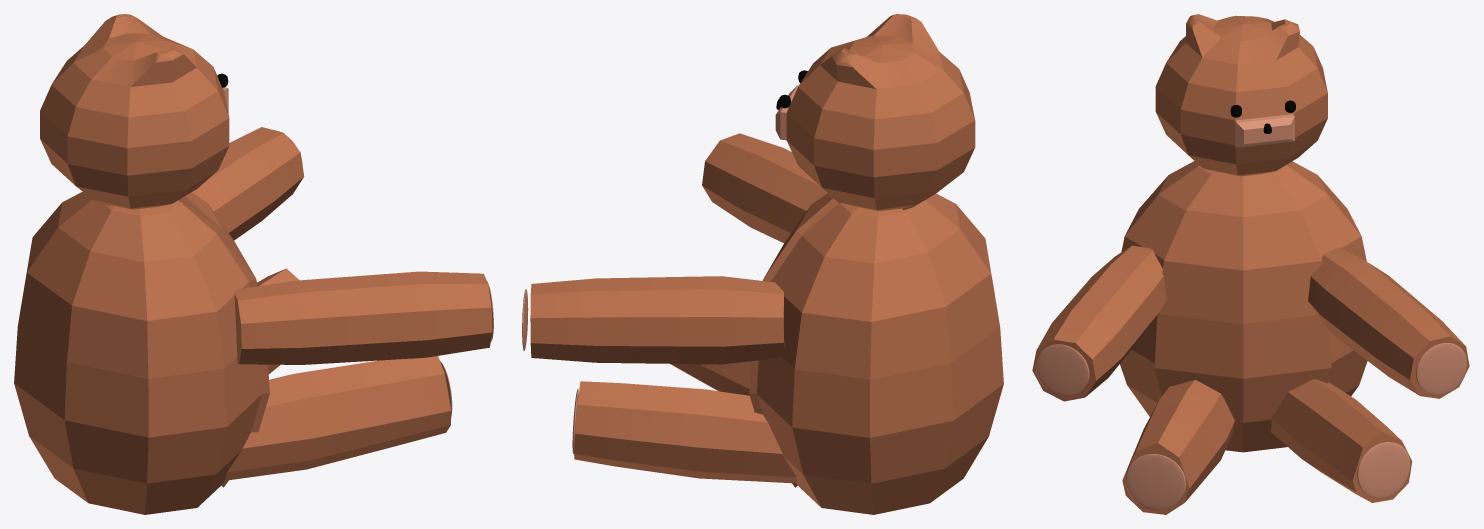
The model's file is Bear 2.fbx.
3 renders of one model, left to right at view 1: azimuth 30°, elevation 25°; view 2: azimuth 150°, elevation 25°; view 3: azimuth 270°, elevation 25°, orthographic. The views are drawn at different scales.
Visible parts, largest first — view 1: pSphere1, pSphere2, pCylinder2, pasted__pCylinder1, pasted__pCylinder2; view 2: pSphere1, pSphere2, pasted__pCylinder2, pCylinder1, pCylinder2, pasted__pCylinder1; view 3: pSphere1, pSphere2, pasted__pCylinder2, pCylinder2, pCylinder1, pasted__pCylinder1, pasted__pSphere3 (×2), pSphere3, pasted__pasted__pSphere3.
Boxes of the visible parts, bbox=[...] form: pSphere1: bbox=[14, 191, 269, 514]; pSphere2: bbox=[40, 14, 229, 209]; pCylinder2: bbox=[234, 271, 492, 364]; pasted__pCylinder1: bbox=[226, 356, 451, 479]; pasted__pCylinder2: bbox=[192, 127, 304, 240]; pSphere1: bbox=[749, 193, 1003, 514]; pSphere2: bbox=[775, 14, 975, 210]; pasted__pCylinder2: bbox=[530, 276, 784, 364]; pCylinder1: bbox=[574, 381, 797, 483]; pCylinder2: bbox=[702, 133, 827, 242]; pasted__pCylinder1: bbox=[670, 361, 751, 395]; pSphere1: bbox=[1120, 161, 1367, 452]; pSphere2: bbox=[1155, 14, 1327, 176]; pasted__pCylinder2: bbox=[1308, 247, 1469, 398]; pCylinder2: bbox=[1032, 245, 1166, 401]; pCylinder1: bbox=[1271, 379, 1412, 502]; pasted__pCylinder1: bbox=[1122, 380, 1234, 514]; pasted__pSphere3 (×2): bbox=[1357, 343, 1467, 498]; pSphere3: bbox=[1125, 454, 1186, 509]; pasted__pasted__pSphere3: bbox=[1035, 344, 1089, 396].
Size of the model in its own units: 12.19 by 14.41 by 14.11.
